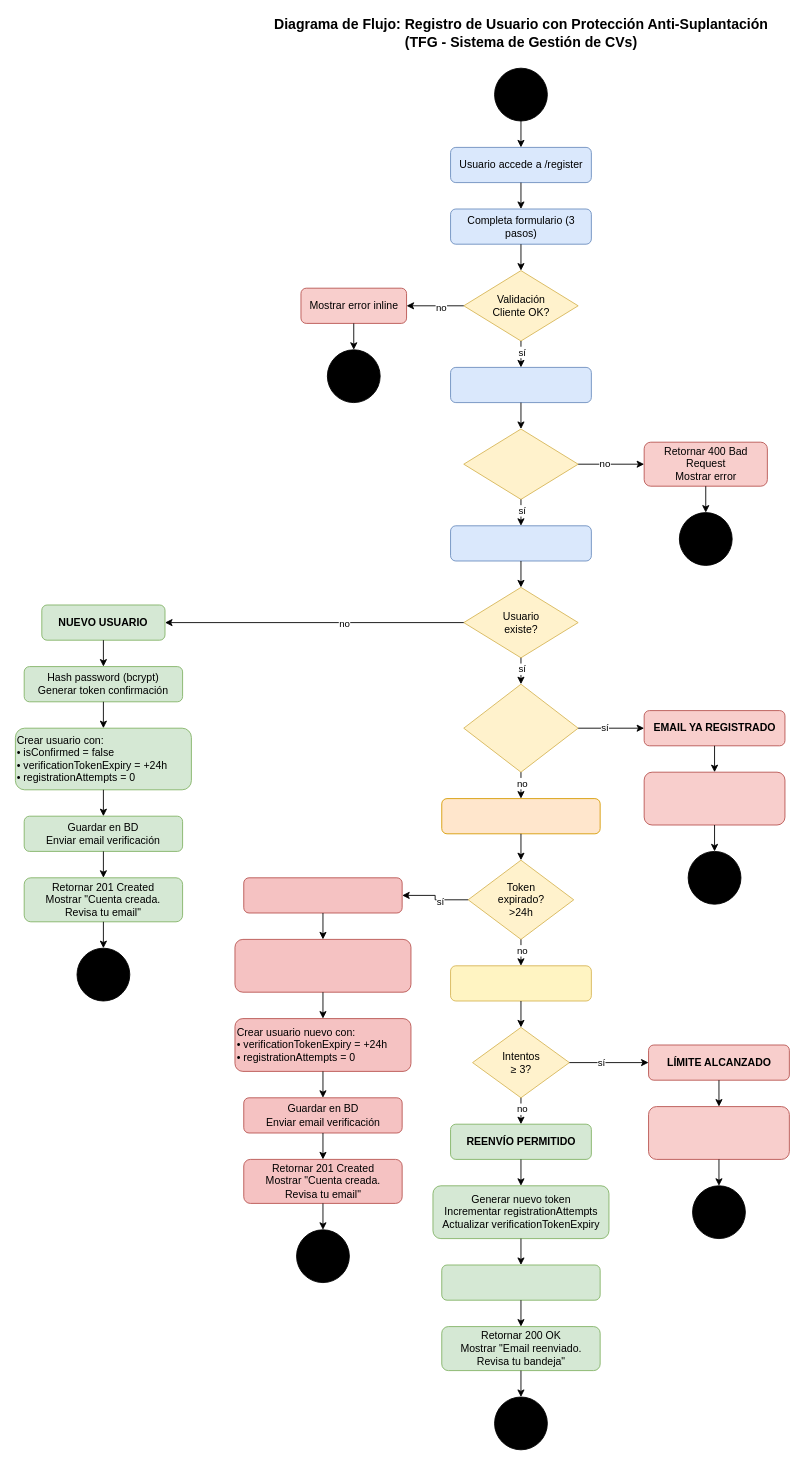
Image size: 805x1465. Some labels were removed from this diagram. Here are the shapes that lost their labels. From the top down, the centre of each, then its label:
the point at 520,385: Enviar POST /auth/register
the point at 520,463: Validación Backend OK?
the point at 520,543: Buscar usuario por email
the point at 520,727: Usuario verificado? isConfirmed=true
the point at 520,816: USUARIO NO VERIFICADO
the point at 714,798: Retornar 409 Conflict Mostrar "Email ya registrado y verificado"
the point at 322,895: RE-REGISTRO PERMITIDO
the point at 322,965: Eliminar usuario anterior Hash nuevo password Generar nuevo token
the point at 520,983: TOKEN VÁLIDO (<24h)
the point at 718,1132: Retornar 429 Too Many Mostrar "Demasiados intentos. Espera 24h"
the point at 520,1282: Guardar cambios Reenviar email verificación
